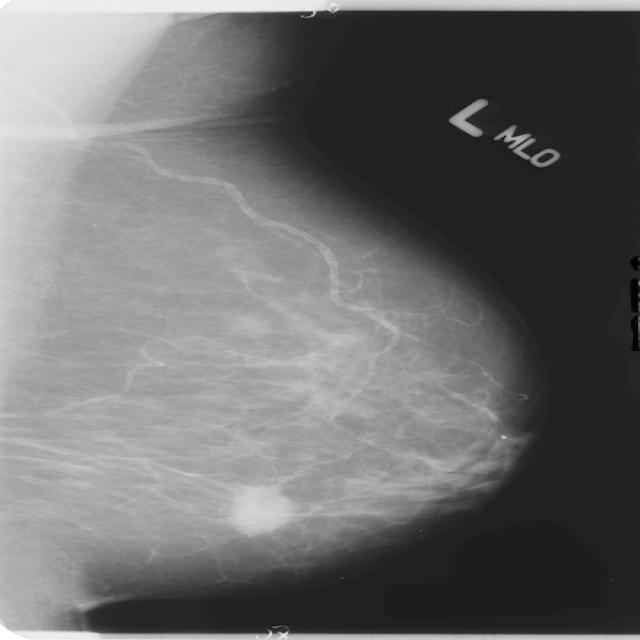tumour: (226, 484, 292, 534)
